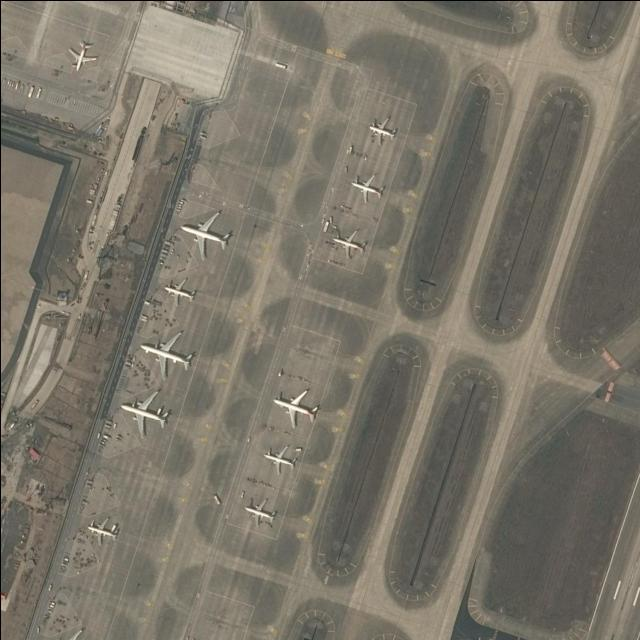Aircraft: (138, 331, 194, 380), (180, 211, 237, 253), (123, 390, 173, 434), (272, 386, 322, 426), (324, 221, 373, 257), (261, 441, 299, 473), (82, 517, 120, 547), (69, 39, 101, 73), (365, 115, 400, 145), (351, 174, 385, 199), (245, 499, 276, 525), (44, 625, 96, 640), (164, 278, 194, 302)
